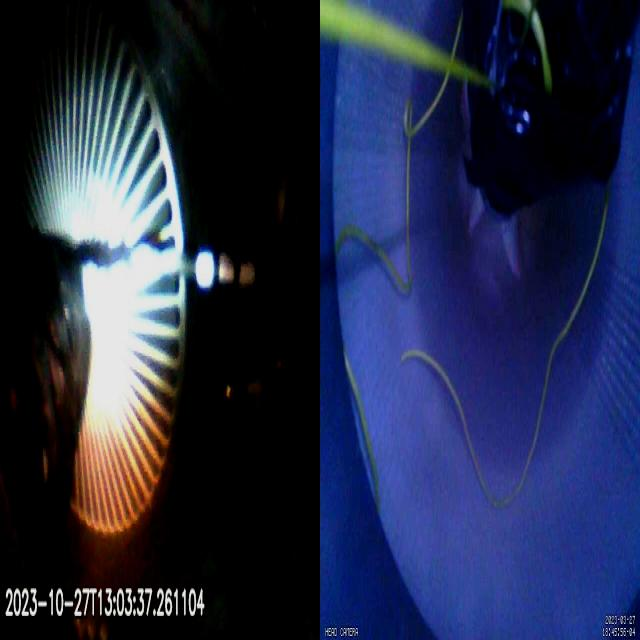white-dots: (196, 246, 257, 293)
